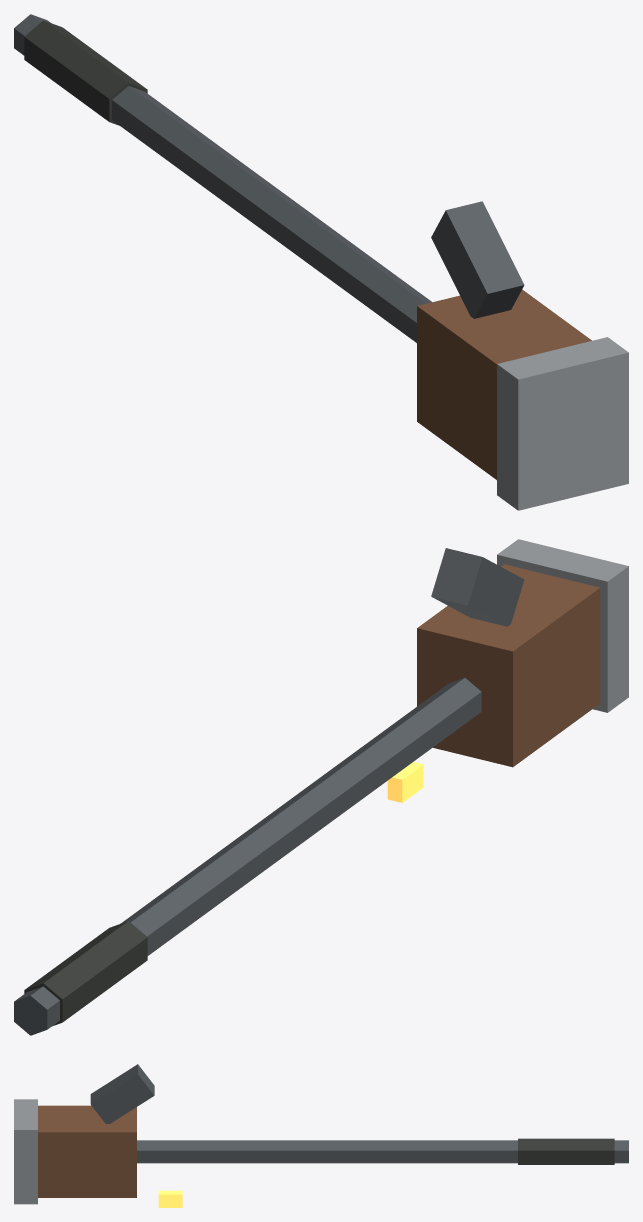
File: wpn_heavy.glb
The picture shows the model from 3 angles, top to bottom: view 1: azimuth 30°, elevation 25°; view 2: azimuth 150°, elevation 25°; view 3: azimuth 270°, elevation 25°; orthographic projection. The views are drawn at different scales.
Parts seen in each view (by area): view 1: face, haft, head, claw, wrap; view 2: head, haft, face, wrap, claw, charm; view 3: haft, head, wrap, face, claw, charm.
Boxes of the visible parts, x1,y1,x2,y2 form: face: (497, 337, 628, 510); haft: (14, 14, 432, 342); head: (417, 289, 591, 479); claw: (431, 201, 524, 318); wrap: (24, 20, 147, 125); head: (417, 564, 600, 767); haft: (14, 678, 481, 1035); face: (497, 539, 628, 712); wrap: (24, 921, 147, 1026); claw: (431, 548, 524, 626); charm: (387, 762, 423, 802); haft: (137, 1140, 628, 1163); head: (38, 1105, 136, 1197); wrap: (518, 1138, 614, 1164); face: (14, 1099, 37, 1204); claw: (90, 1064, 154, 1123); charm: (158, 1190, 182, 1207).
Size of the model in its own units: 0.15 by 0.294 by 1.27.
